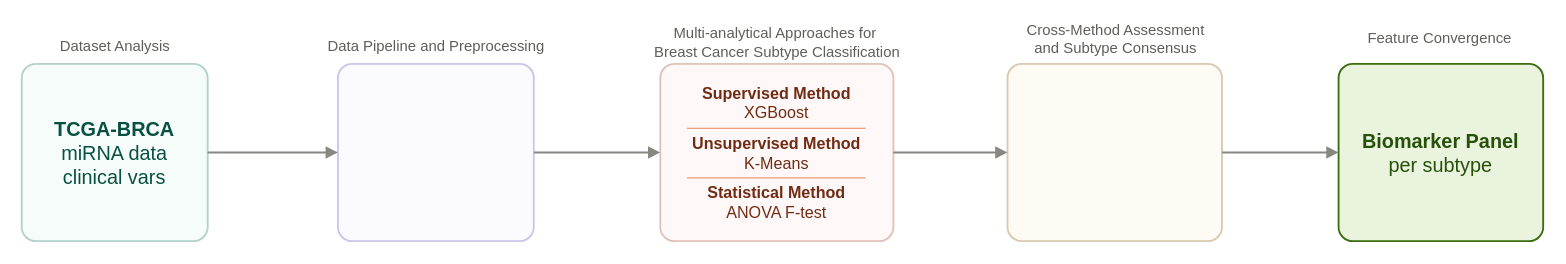
Some shapes in this 1566 by 264 pixel diagram are drawn without their labels. Here are the shapes that lost their labels. From the top down, the centre of each, then its label:
At (435,152): "Pilot cohort n = 244 Expanded n = 702".
At (1114,152): "Validation cross-paradigm & cross-cohort".
